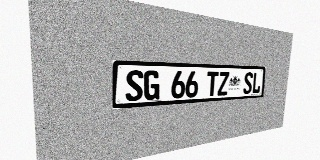6: (171, 71, 186, 99), (185, 71, 199, 98)
G: (143, 70, 160, 100)
L: (252, 72, 261, 94)
S: (125, 70, 143, 102), (243, 72, 253, 94)
T: (206, 71, 219, 96)
Z: (217, 72, 229, 96)
